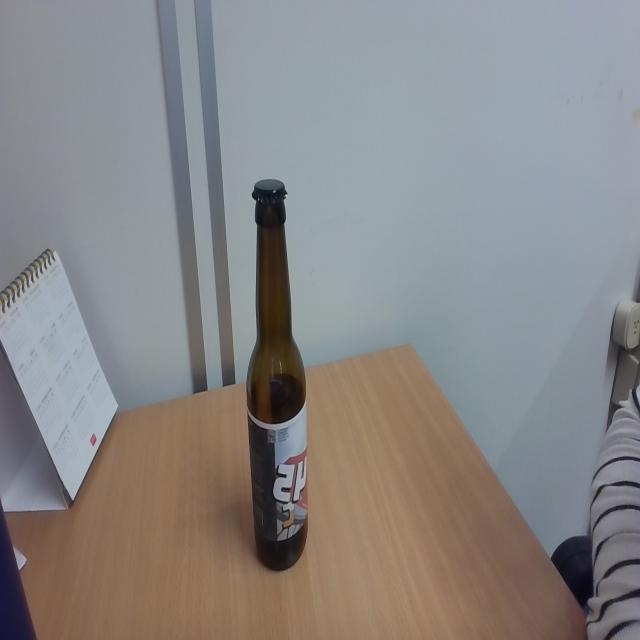Bottle: (246, 177, 310, 574)
Cap: (250, 178, 290, 208)
Label: (247, 408, 306, 542)
